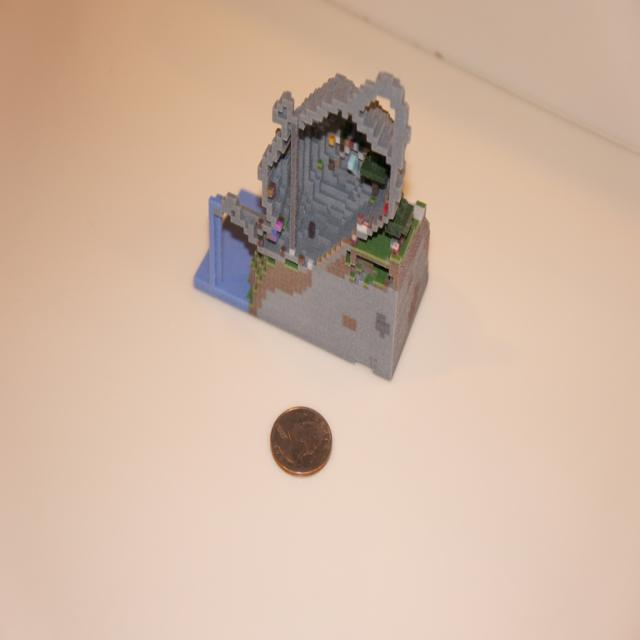Coin: (267, 404, 331, 473)
